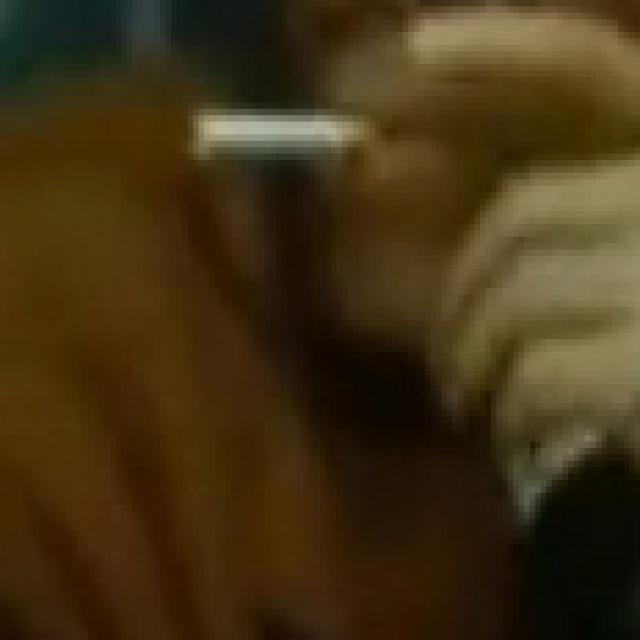smoking: (187, 116, 367, 156)
